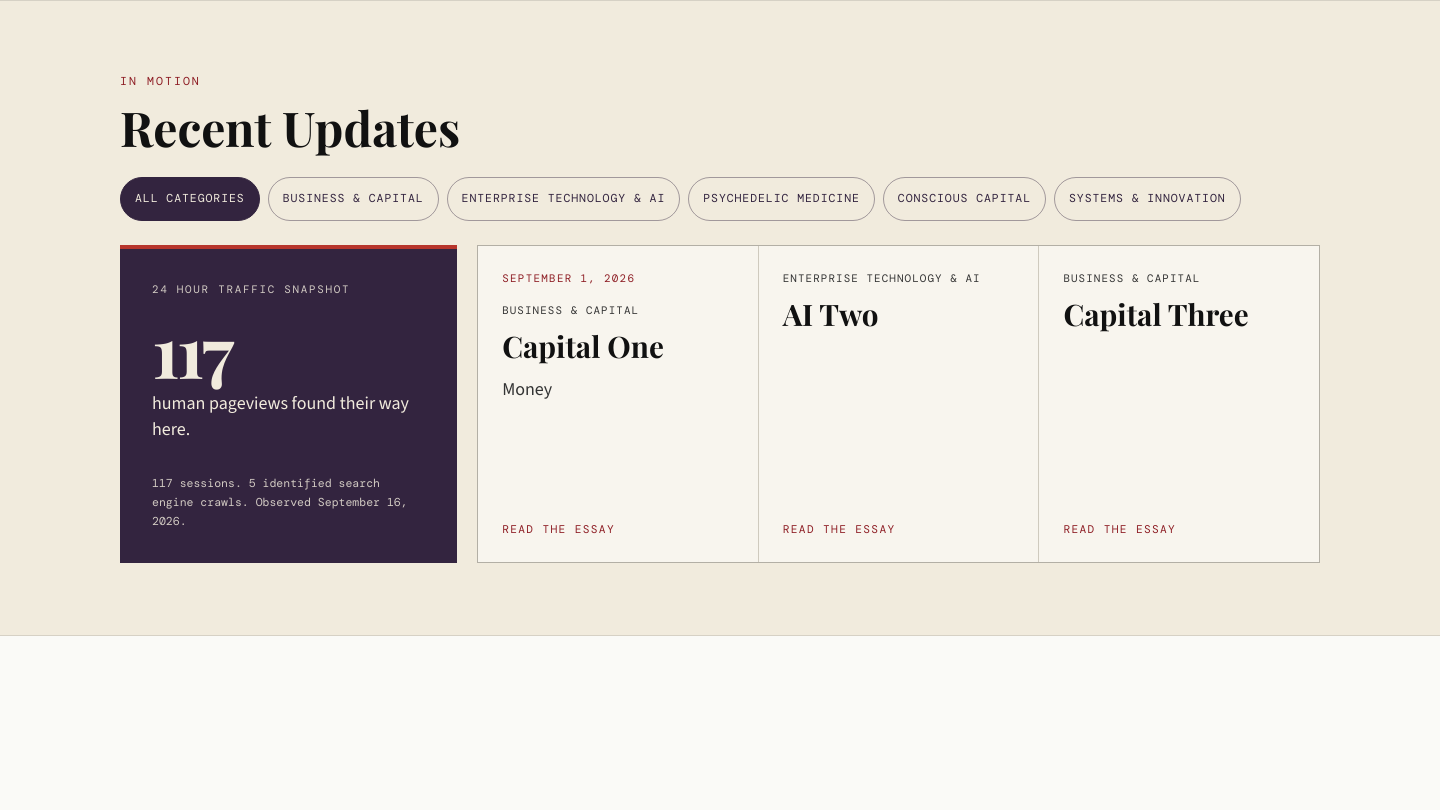
Test: RecentUpdates › says when a topic has no essays
Click the button "Psychedelic Medicine" at {"x": 782, "y": 199}, box 688,177 -> 875,221
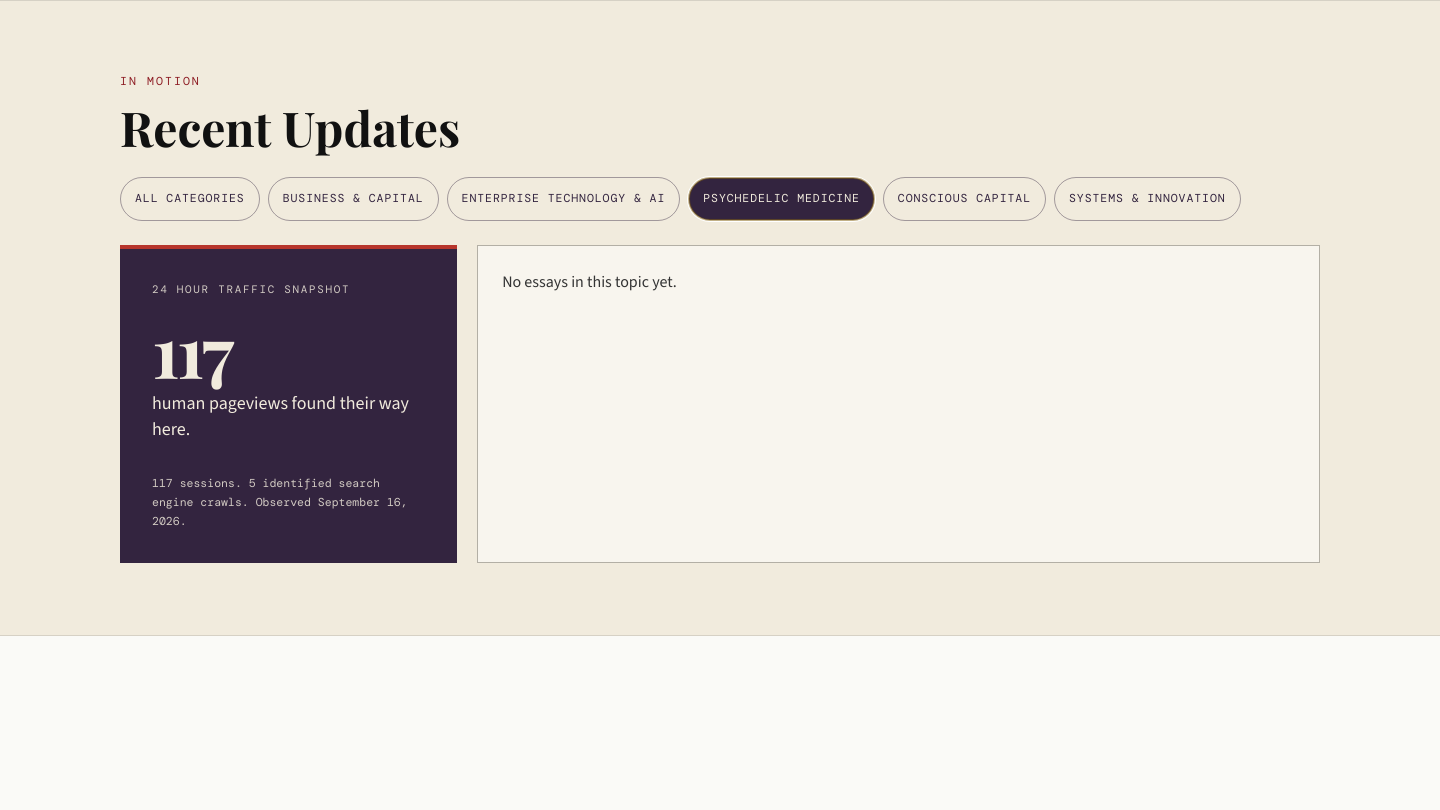
Result: the text "No essays in this topic yet." is shown at 478,246 -> 1319,562
